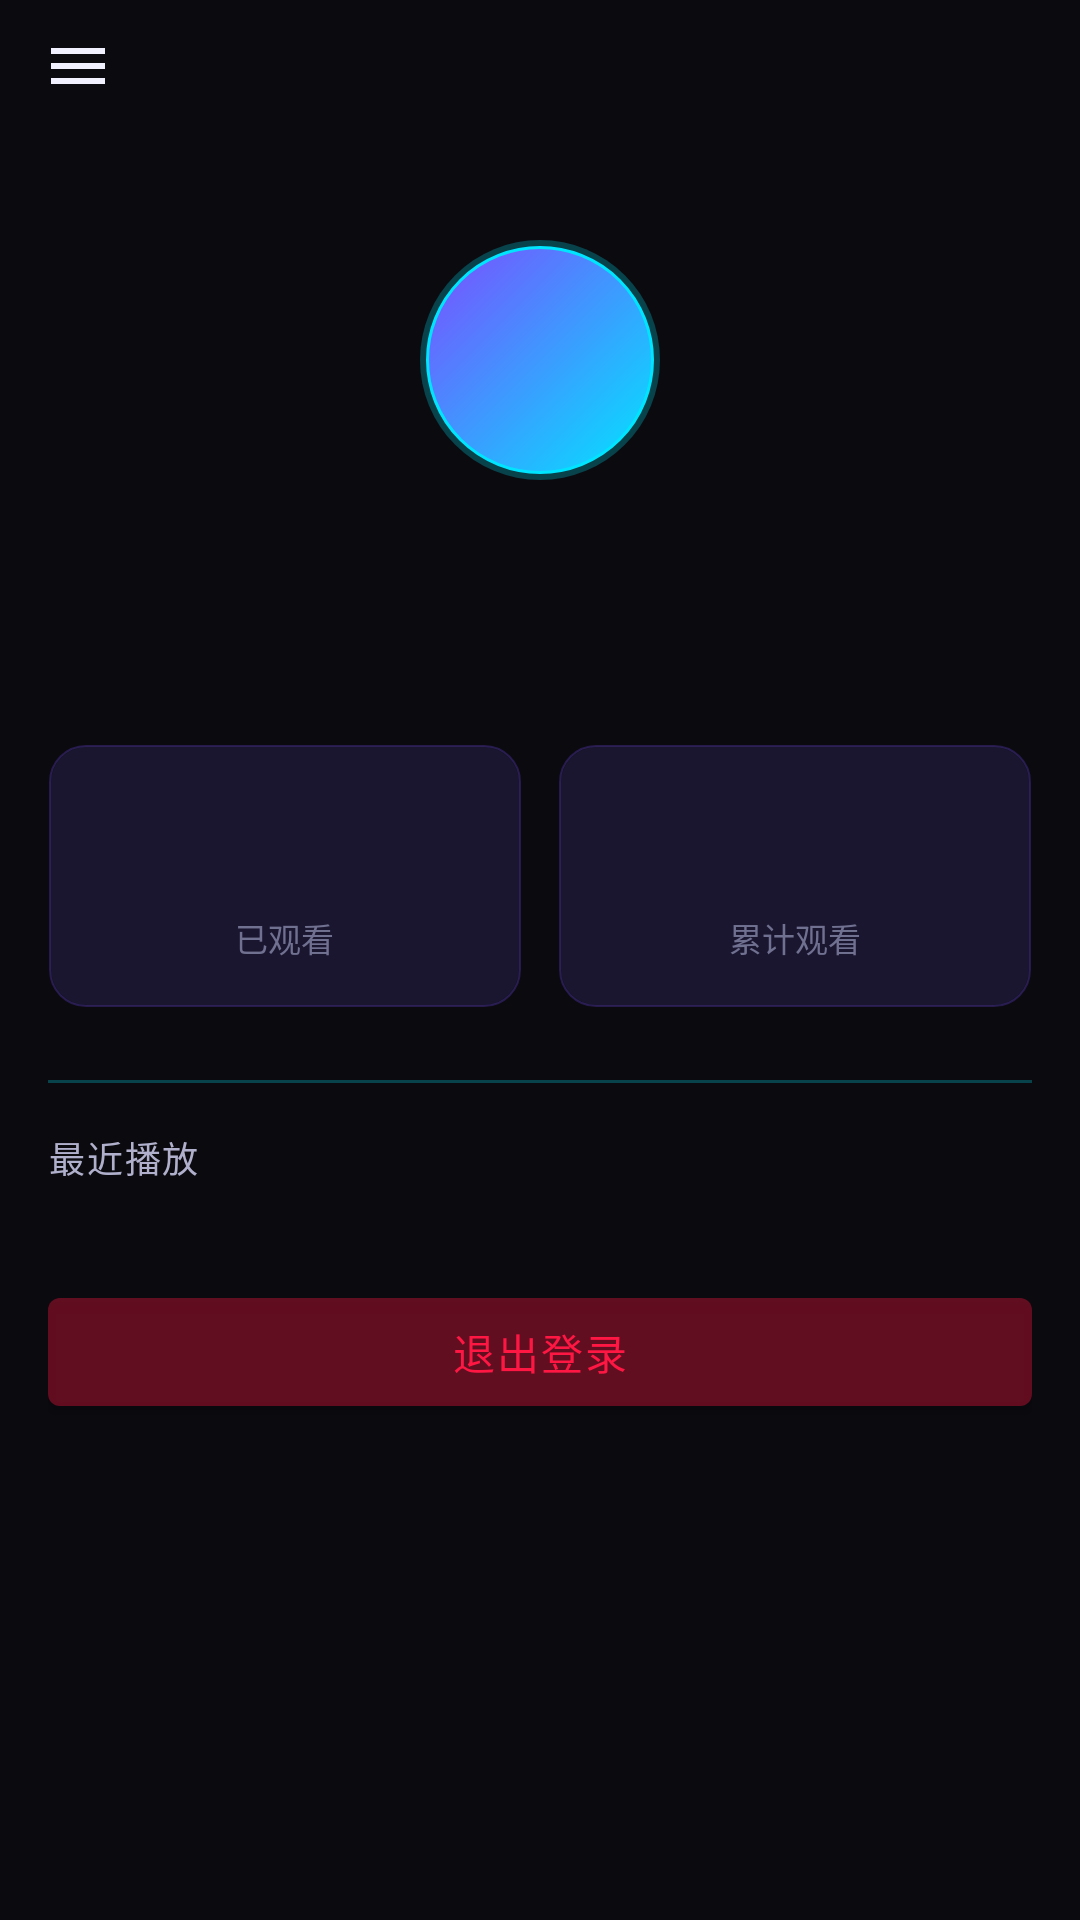

Icon click points for this 1080 x 1920 phone screenshot, format point (x, y):
打开菜单: point (78, 66)
